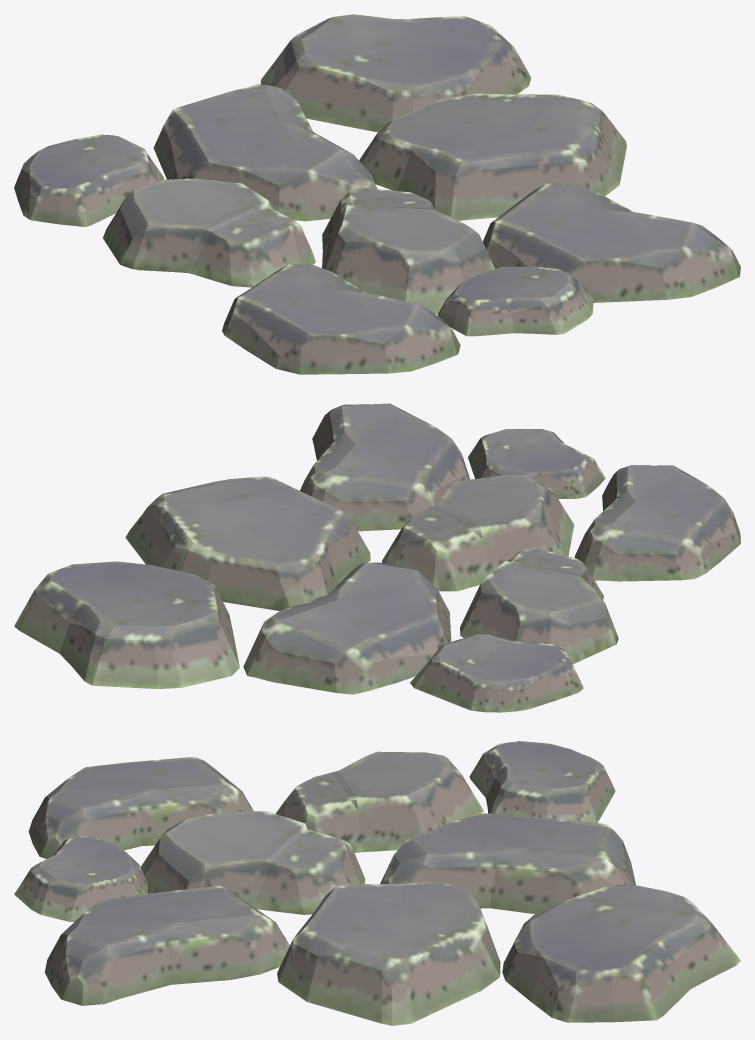
Rendered from rock_path_round_b.glb.
The picture shows the model from 3 angles, top to bottom: view 1: azimuth 30°, elevation 25°; view 2: azimuth 150°, elevation 25°; view 3: azimuth 270°, elevation 25°; orthographic projection. The views are drawn at different scales.
Parts seen in each view (by area): view 1: RockPath_Round_Small_2; view 2: RockPath_Round_Small_2; view 3: RockPath_Round_Small_2.
Part boxes in pixels (left/top/right/bottom): RockPath_Round_Small_2: left=14, top=14, right=740, bottom=374; RockPath_Round_Small_2: left=14, top=403, right=740, bottom=712; RockPath_Round_Small_2: left=14, top=741, right=740, bottom=1025.
Size of the model in its own units: 1.14 by 0.1047 by 1.35.
Materials: 1 (1 with a texture image).
